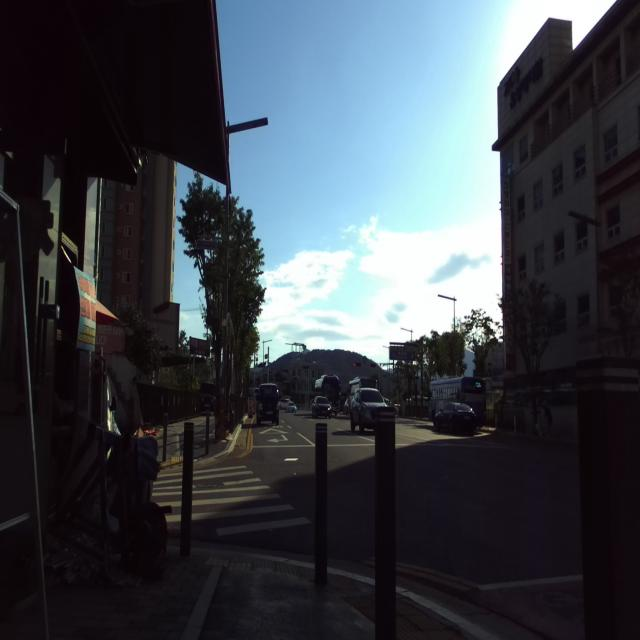횡단보도: (152, 466, 312, 536)
